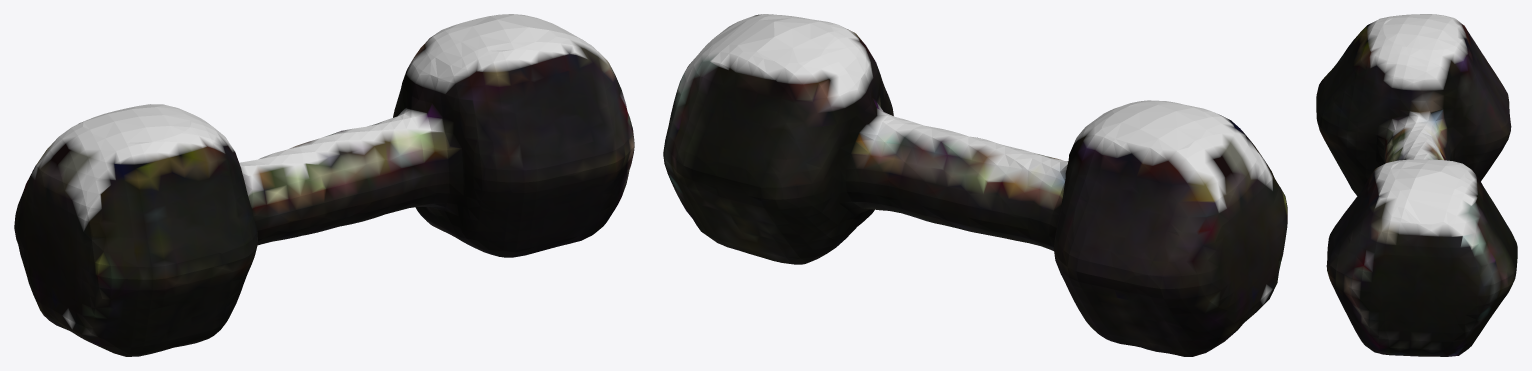
File: weight20.dae
3 views of the same model, side by side, from view 1: azimuth 30°, elevation 25°; view 2: azimuth 150°, elevation 25°; view 3: azimuth 270°, elevation 25° (orthographic). The views are drawn at different scales.
Parts seen in each view (by area): view 1: node; view 2: node; view 3: node.
Boxes of the visible parts, <box> form: node: <box>14,14,634,356</box>; node: <box>663,14,1287,356</box>; node: <box>1316,14,1517,356</box>.
Size of the model in its own units: 0.3222 by 0.1188 by 0.1268.
